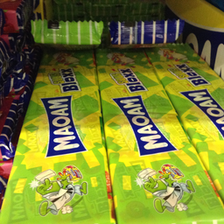candy: (14, 45, 107, 224), (98, 48, 188, 224), (159, 41, 224, 199)
